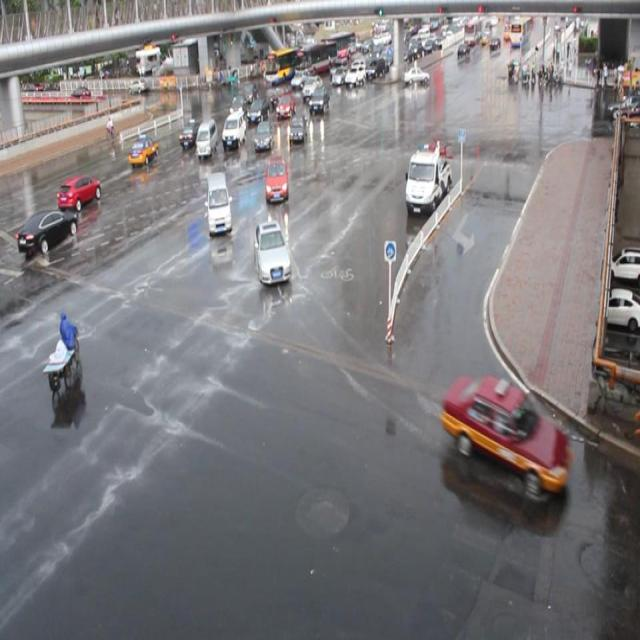bus: (404, 145, 452, 213)
car: (440, 372, 570, 493), (16, 208, 78, 252), (252, 220, 292, 283), (58, 174, 102, 211), (264, 153, 289, 201), (128, 134, 159, 165), (178, 118, 204, 145), (253, 120, 274, 152), (288, 110, 307, 142), (247, 96, 269, 122), (309, 86, 329, 112), (301, 75, 322, 98), (276, 93, 296, 116), (240, 81, 259, 105), (229, 94, 248, 117), (270, 85, 289, 106)
truck: (205, 170, 232, 233), (221, 110, 247, 148), (195, 118, 218, 156)
